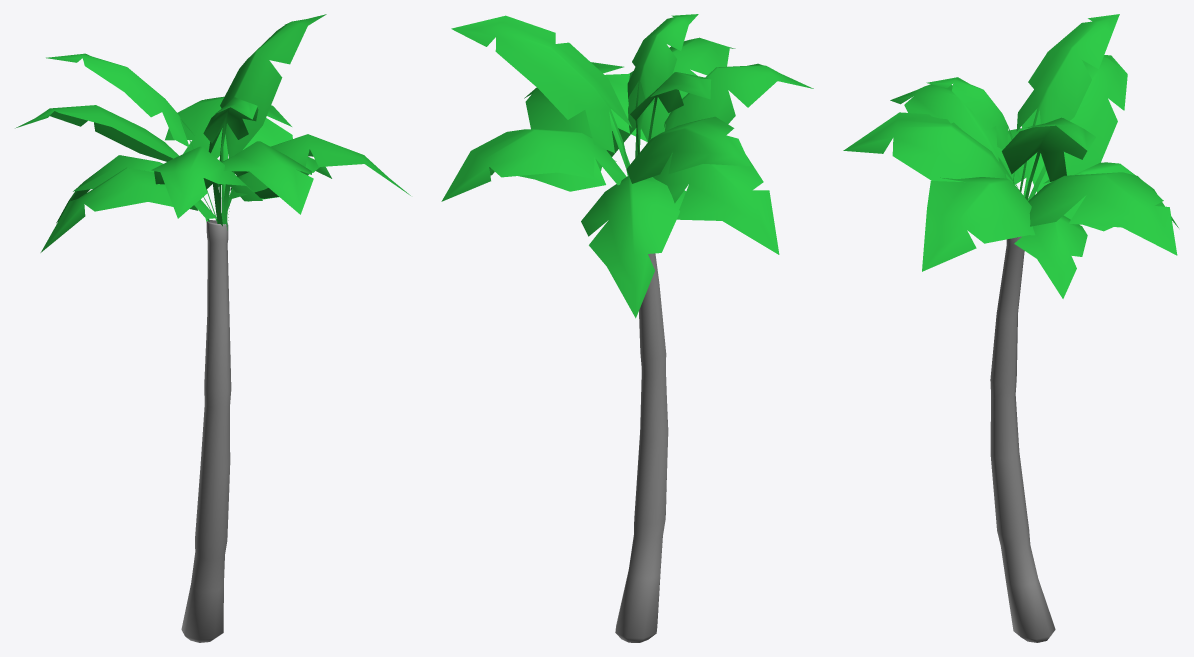
File: Mesh_Beach_Palm01.fbx
3 renders of one model, left to right at view 1: azimuth 30°, elevation 25°; view 2: azimuth 150°, elevation 25°; view 3: azimuth 270°, elevation 25°, orthographic. The views are drawn at different scales.
Parts seen in each view (by area): view 1: Mesh_Beach_Palm01; view 2: Mesh_Beach_Palm01; view 3: Mesh_Beach_Palm01.
Part boxes in pixels (x1=…): Mesh_Beach_Palm01: x1=15, y1=14, x2=410, y2=642; Mesh_Beach_Palm01: x1=441, y1=14, x2=813, y2=642; Mesh_Beach_Palm01: x1=843, y1=14, x2=1178, y2=642.
Size of the model in its own units: 7.53 by 13.8 by 7.36.
